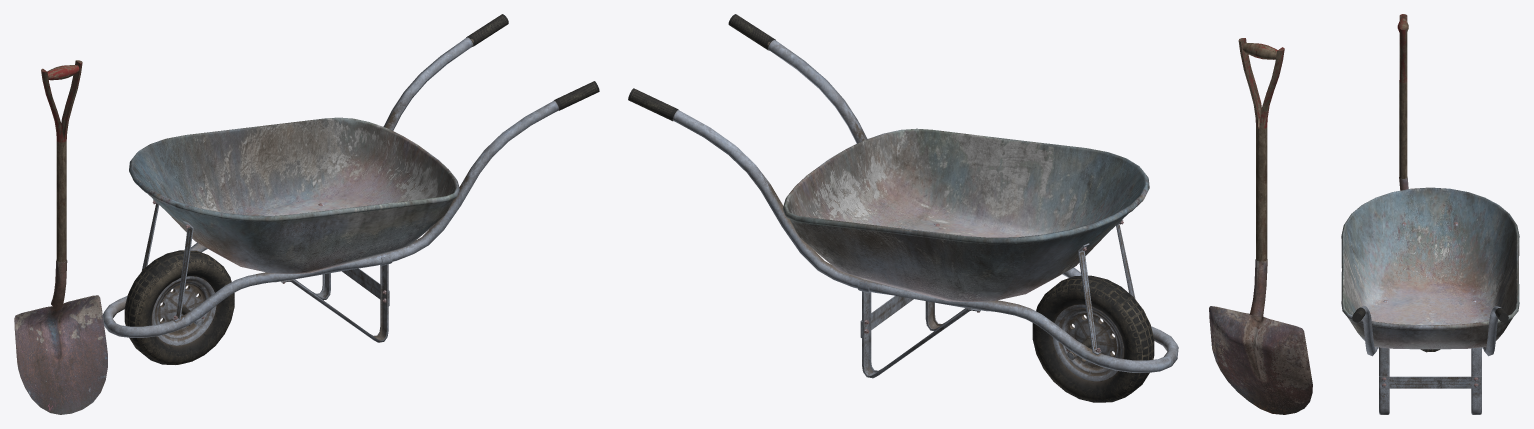
The model's file is wheelbarrow__pushcart.glb.
3 views of the same model, side by side, from view 1: azimuth 30°, elevation 25°; view 2: azimuth 150°, elevation 25°; view 3: azimuth 270°, elevation 25° (orthographic). The views are drawn at different scales.
Parts seen in each view (by area): view 1: pushcart, shovel; view 2: pushcart, shovel; view 3: pushcart, shovel.
Part boxes in pixels (box(x1,y1,x2,y2)): pushcart: box(103, 14, 599, 364); shovel: box(14, 60, 107, 414); pushcart: box(628, 14, 1178, 402); shovel: box(1209, 38, 1312, 414); pushcart: box(1341, 187, 1519, 414); shovel: box(1397, 14, 1408, 190).
Bounding box in the file's own units: 1.68 × 0.9926 × 0.5872.
1 material, 1 textured.
